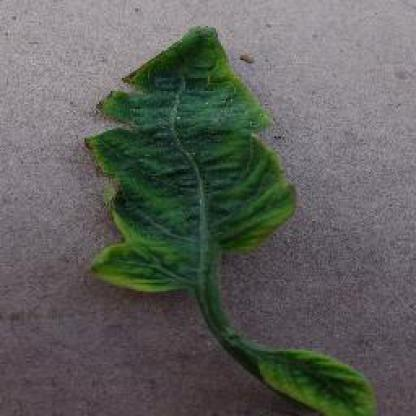bad leaf: (42, 18, 400, 414)
